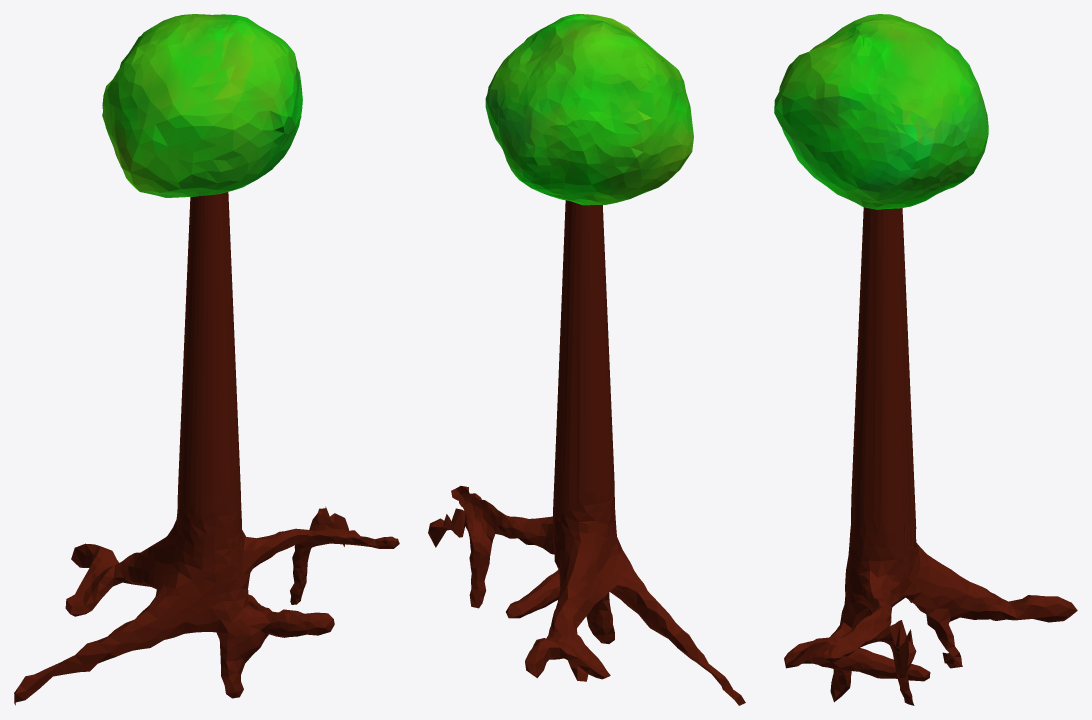
Rendered from stupidTree.obj.
3 views of the same model, side by side, from view 1: azimuth 30°, elevation 25°; view 2: azimuth 150°, elevation 25°; view 3: azimuth 270°, elevation 25° (orthographic). The views are drawn at different scales.
Parts seen in each view (by area): view 1: Trunk_Cylinder.003, Leaves_Cylinder.002; view 2: Trunk_Cylinder.003, Leaves_Cylinder.002; view 3: Trunk_Cylinder.003, Leaves_Cylinder.002.
Boxes of the visible parts, x1=… form: Trunk_Cylinder.003: x1=14, y1=192, x2=399, y2=705; Leaves_Cylinder.002: x1=102, y1=14, x2=302, y2=197; Trunk_Cylinder.003: x1=428, y1=200, x2=745, y2=705; Leaves_Cylinder.002: x1=485, y1=14, x2=693, y2=205; Trunk_Cylinder.003: x1=784, y1=207, x2=1077, y2=705; Leaves_Cylinder.002: x1=774, y1=14, x2=988, y2=209.
Size of the model in its own units: 4.54 by 8.34 by 3.42.
